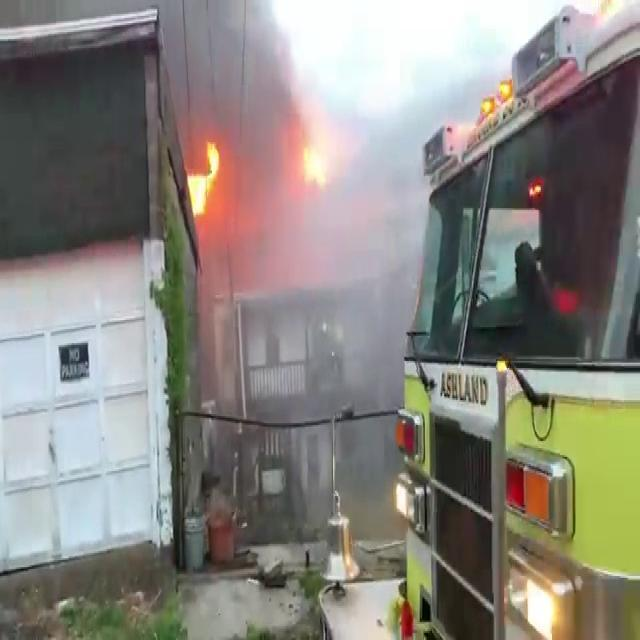Fire: (184, 130, 224, 226), (300, 138, 332, 188)
Smoke: (171, 1, 320, 280)
